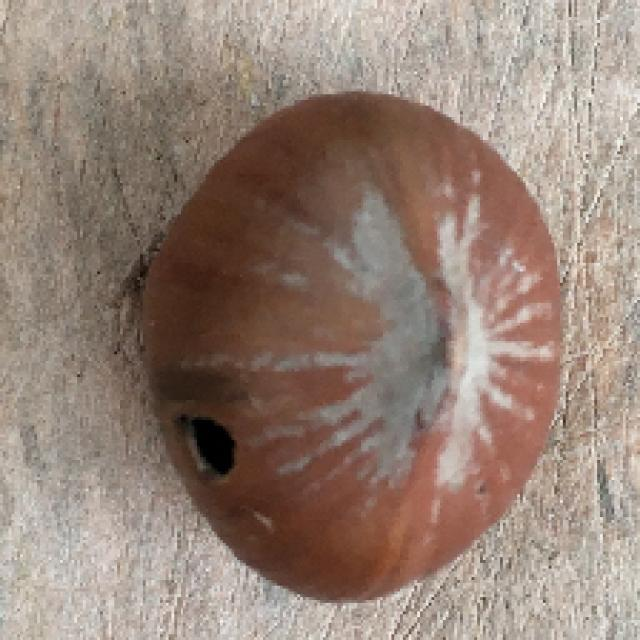damagedHazelnut: (130, 86, 574, 599)
